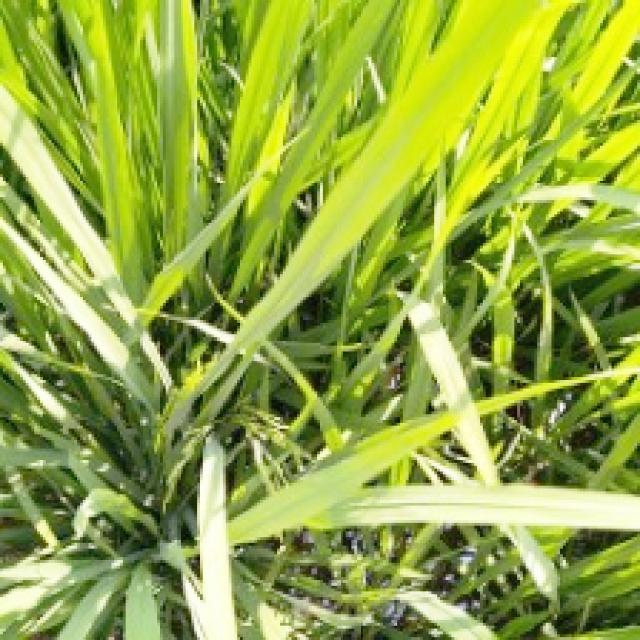health: (174, 0, 639, 371)
